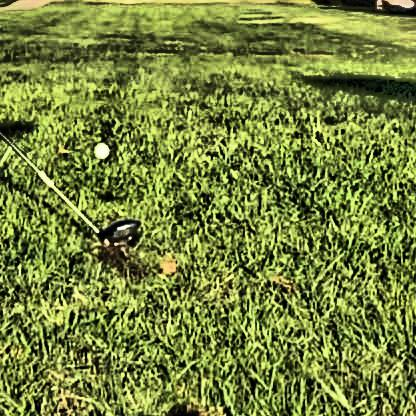golfball: (91, 140, 106, 157)
